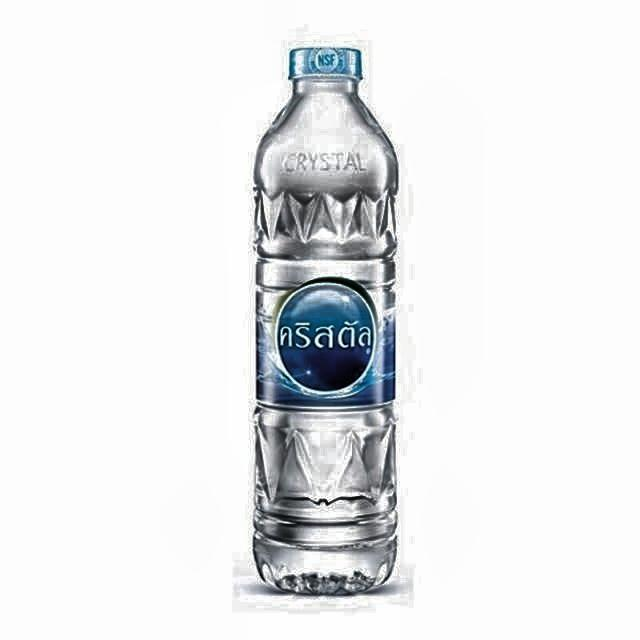plastic bottle: (254, 47, 398, 596)
